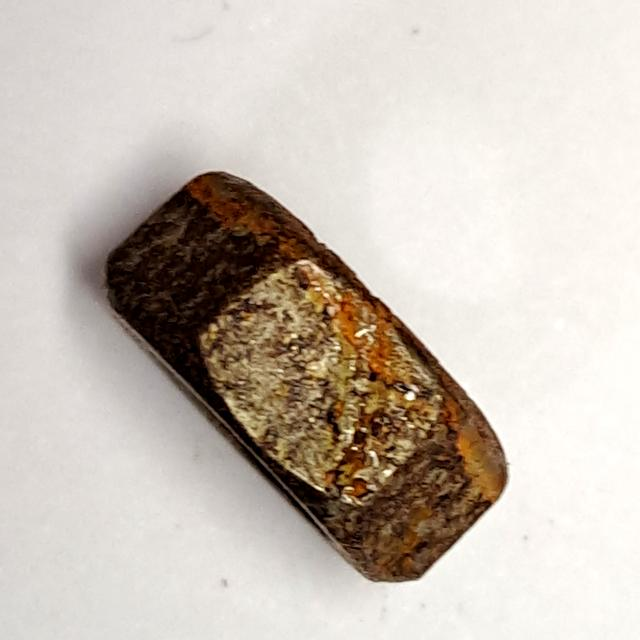Side_Rust: (88, 155, 524, 595)
